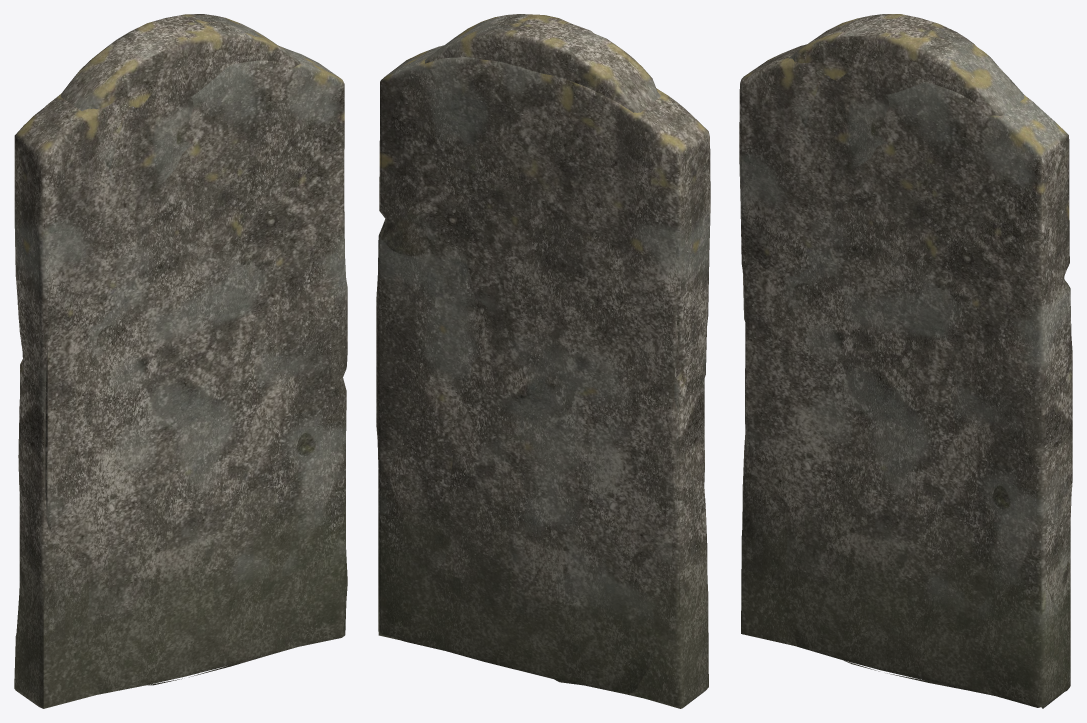
Rendered from greyRound.glb.
The picture shows the model from 3 angles, left to right: view 1: azimuth 30°, elevation 25°; view 2: azimuth 150°, elevation 25°; view 3: azimuth 330°, elevation 25°; orthographic projection.
Parts seen in each view (by area): view 1: greyRound_a, greyRound_b; view 2: greyRound_a, greyRound_b; view 3: greyRound_a, greyRound_b.
Part boxes in pixels (bbox=[...]): greyRound_a: bbox=[18, 14, 300, 694]; greyRound_b: bbox=[14, 45, 347, 708]; greyRound_a: bbox=[391, 14, 704, 693]; greyRound_b: bbox=[376, 45, 710, 708]; greyRound_a: bbox=[745, 14, 1024, 695]; greyRound_b: bbox=[739, 44, 1072, 708].
Bounding box in the file's own units: 0.6089 × 1.21 × 0.1106.
Materials: 2 (2 with a texture image).
